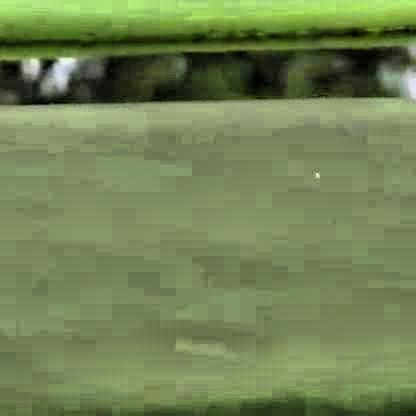golfball: (310, 168, 317, 175)
